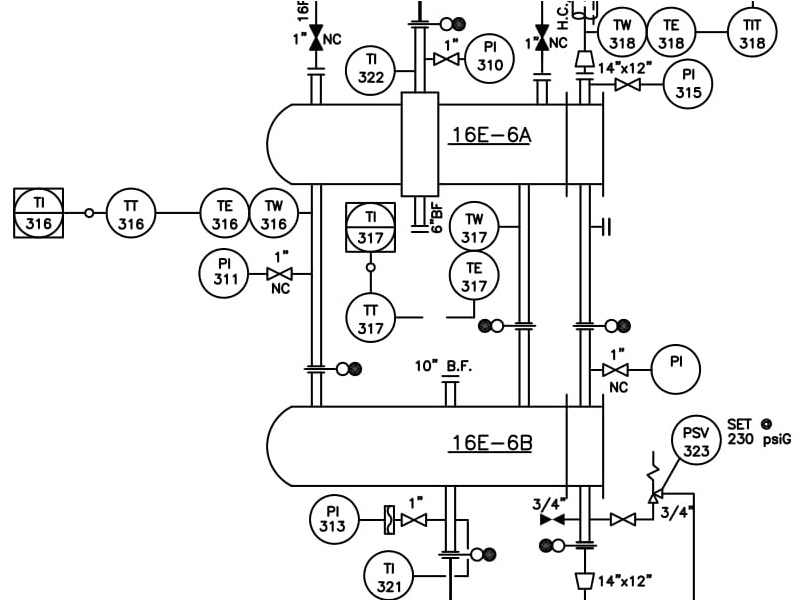Inline Instrument: (103, 185, 159, 241), (196, 243, 252, 299), (343, 287, 399, 343), (647, 340, 703, 396), (342, 42, 398, 98), (463, 30, 519, 86), (661, 56, 717, 112), (725, 3, 781, 59), (594, 4, 650, 60), (306, 489, 362, 545), (362, 544, 418, 600), (669, 410, 725, 466), (446, 248, 502, 304)
Panel Instrument: (10, 183, 68, 241), (341, 198, 399, 256)
